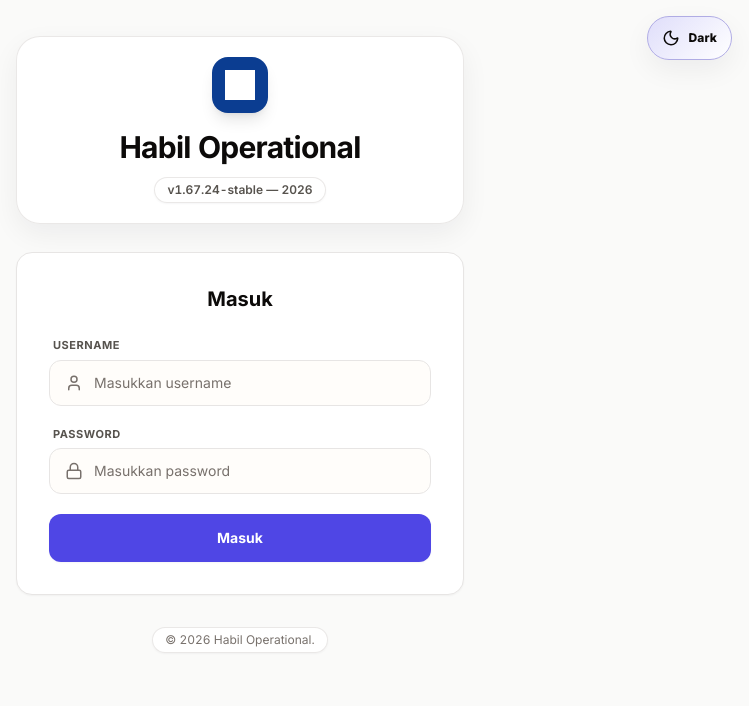
Test: Login accessibility › announces empty credentials and focuses the first invalid field
Click the button "Masuk" at (240, 538), box [49,514,431,562]
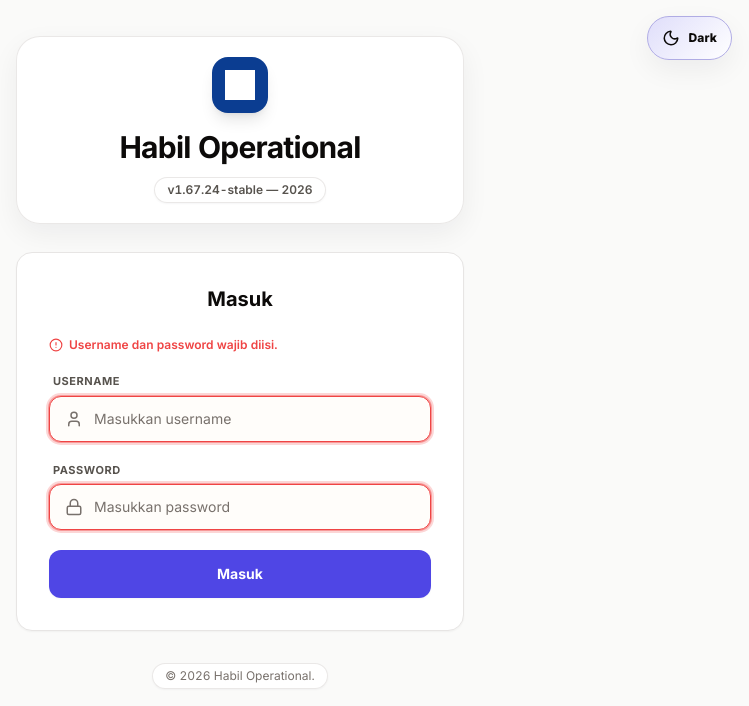
Now the message reads "Username dan password wajib diisi.", box [69,337,278,352]
